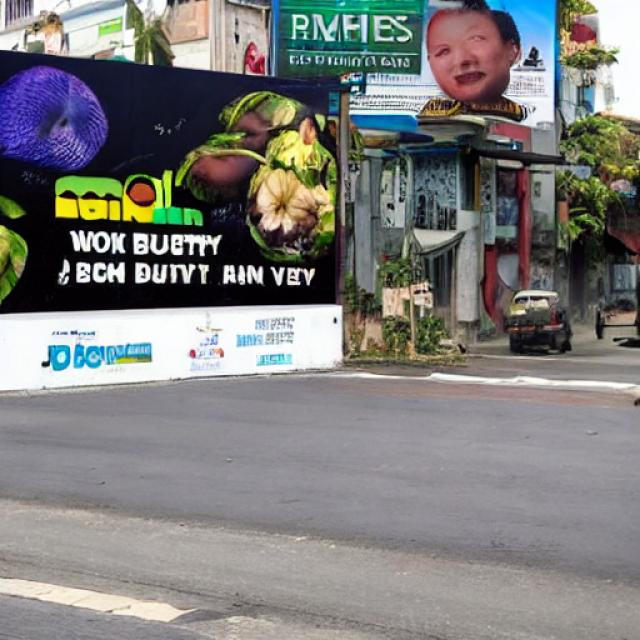Billboard: (2, 47, 344, 389), (266, 0, 557, 142)
